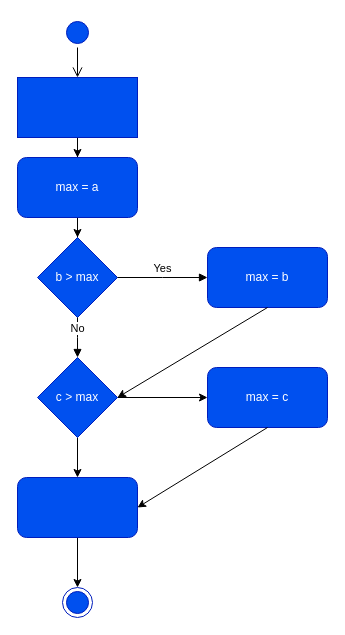
The diagram is 345 pixels wide and 635 high, and some of its shapes have lost their labels. Each missing label, with the centre of its shape:
int a; int b; int c; int max;: (77,107)
System.out.print(max): (77,507)
